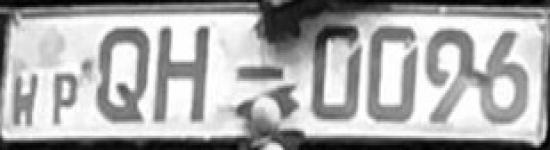-: (231, 58, 288, 89)
0: (364, 17, 419, 132), (306, 21, 362, 128)
6: (478, 22, 535, 133)
9: (418, 22, 482, 134)
H: (152, 14, 215, 134)
P: (46, 66, 82, 127)
Q: (92, 19, 152, 128)
W: (11, 70, 43, 127)
